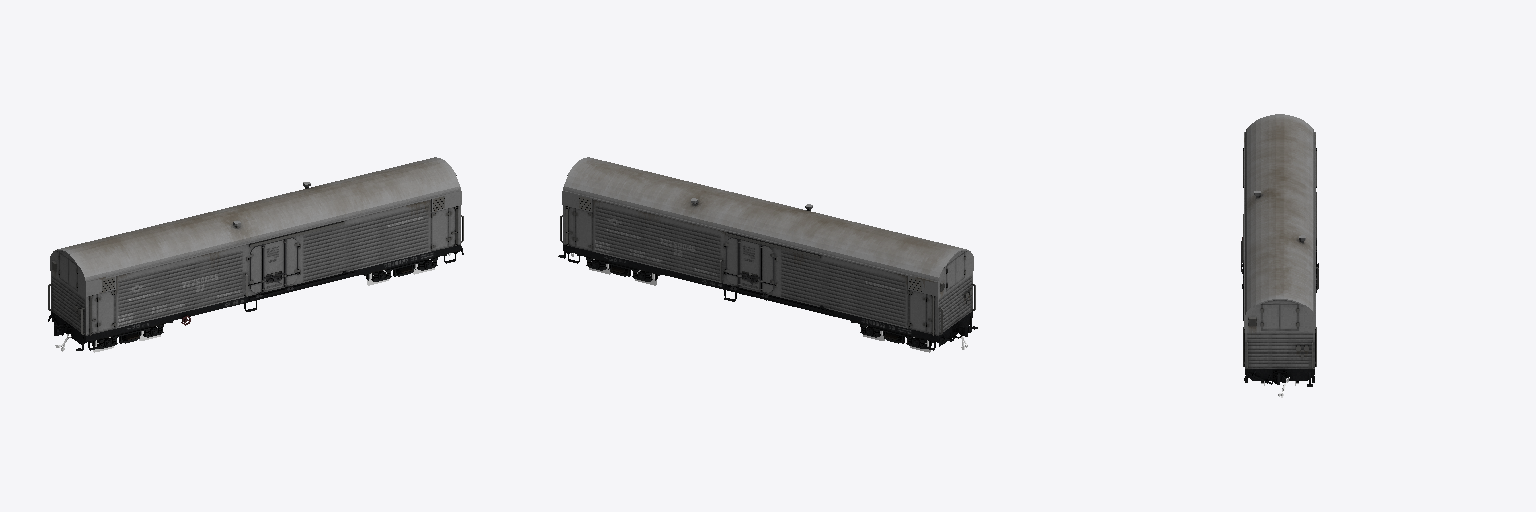
3 views of the same model, side by side, from view 1: azimuth 30°, elevation 25°; view 2: azimuth 150°, elevation 25°; view 3: azimuth 270°, elevation 25° (orthographic).
Parts seen in each view (by area): view 1: FRAME_thermos, LEFT_Door, BOGEY_REAR_thermos, BOGEY_FRONT_thermos; view 2: FRAME_thermos, RIGHT_Door, BOGEY_REAR_thermos, BOGEY_FRONT_thermos; view 3: FRAME_thermos.
Part boxes in pixels (x1,y1,x2,y2): FRAME_thermos: (48, 157, 463, 350); LEFT_Door: (250, 238, 298, 292); BOGEY_REAR_thermos: (363, 254, 446, 281); BOGEY_FRONT_thermos: (90, 321, 172, 348); FRAME_thermos: (558, 157, 977, 350); RIGHT_Door: (725, 238, 773, 292); BOGEY_REAR_thermos: (577, 254, 660, 281); BOGEY_FRONT_thermos: (851, 321, 933, 348); FRAME_thermos: (1241, 114, 1318, 386).
Size of the model in its own units: 21.88 by 5.13 by 3.62.
Materials: 5 (2 with a texture image).